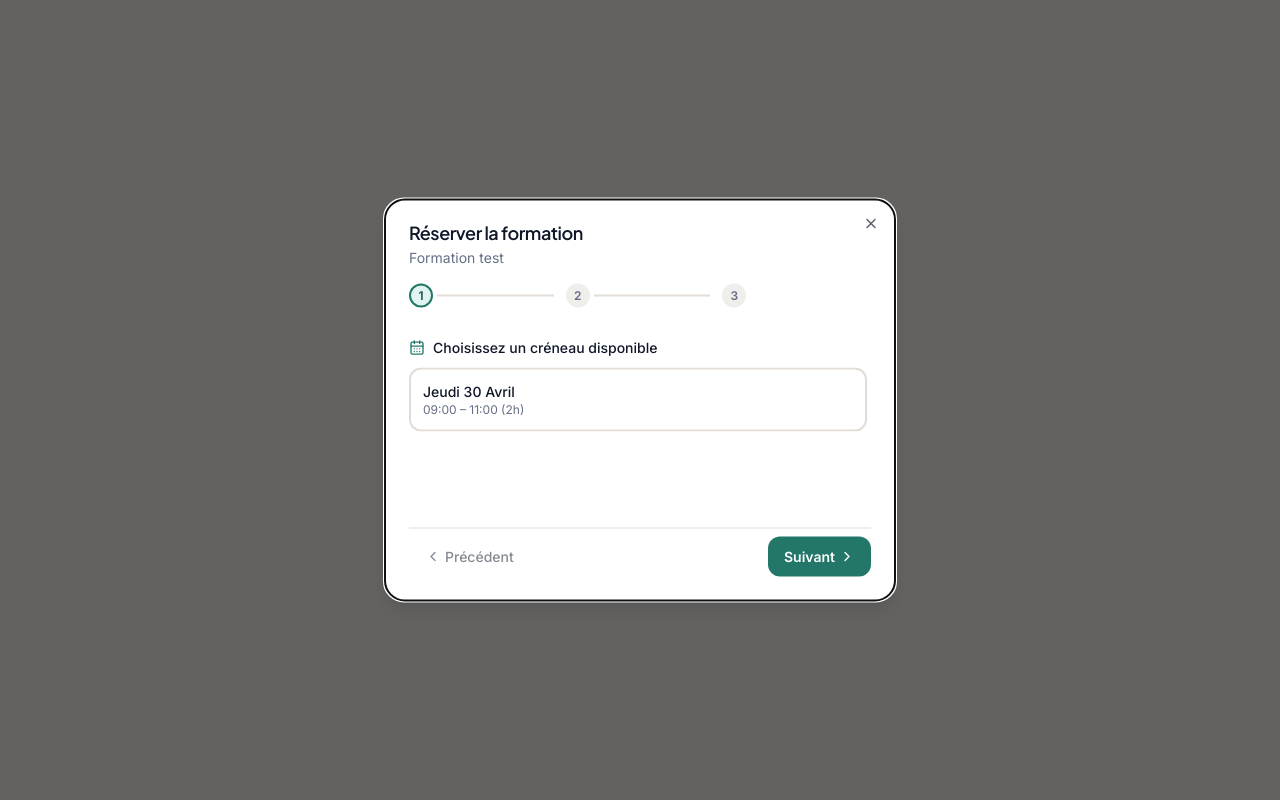
Test: BookServiceModal › applique la même validation de capacité pour une formation
The width and height of the screenshot is (1280, 800).
Click the button "jeudi 30 avril 09:00 – 11:00 (2h)" at (469, 391), box [409,368,867,432]
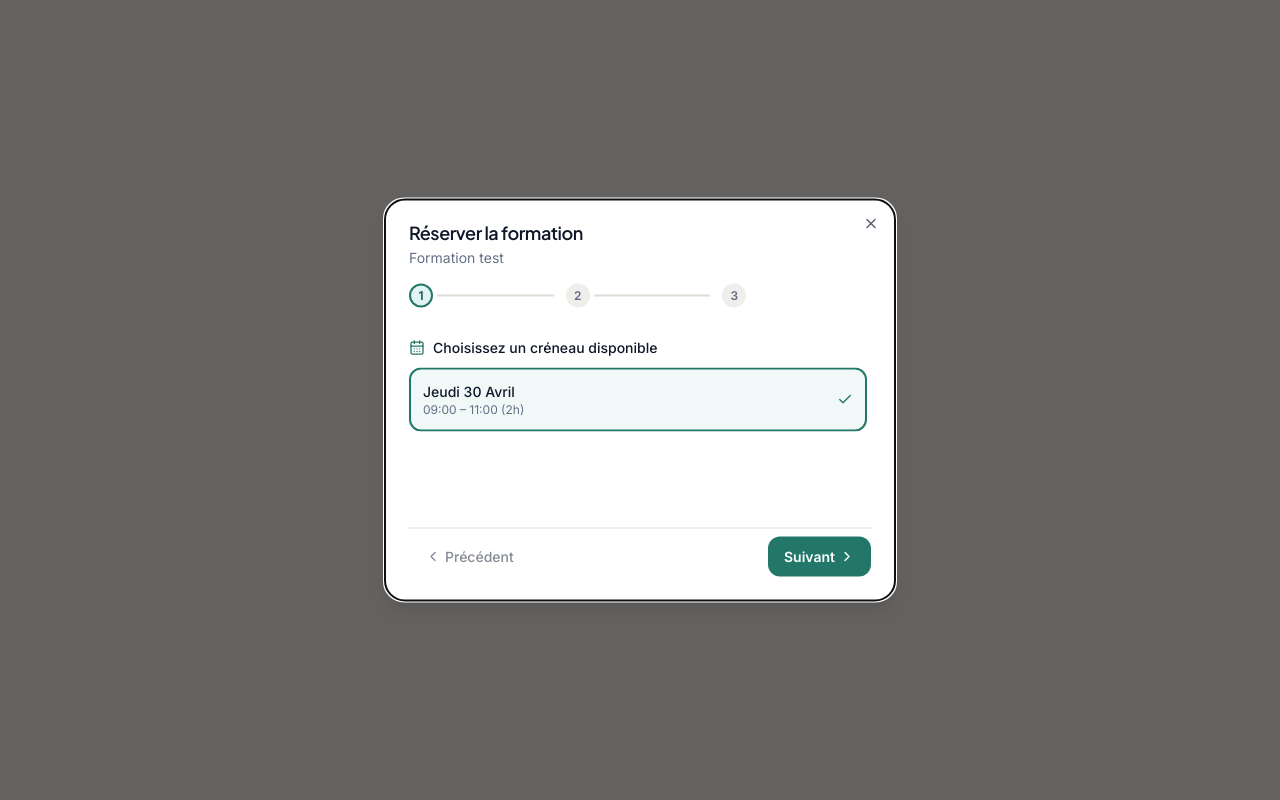
Click the button "Suivant" at (820, 556), box [768,536,871,576]
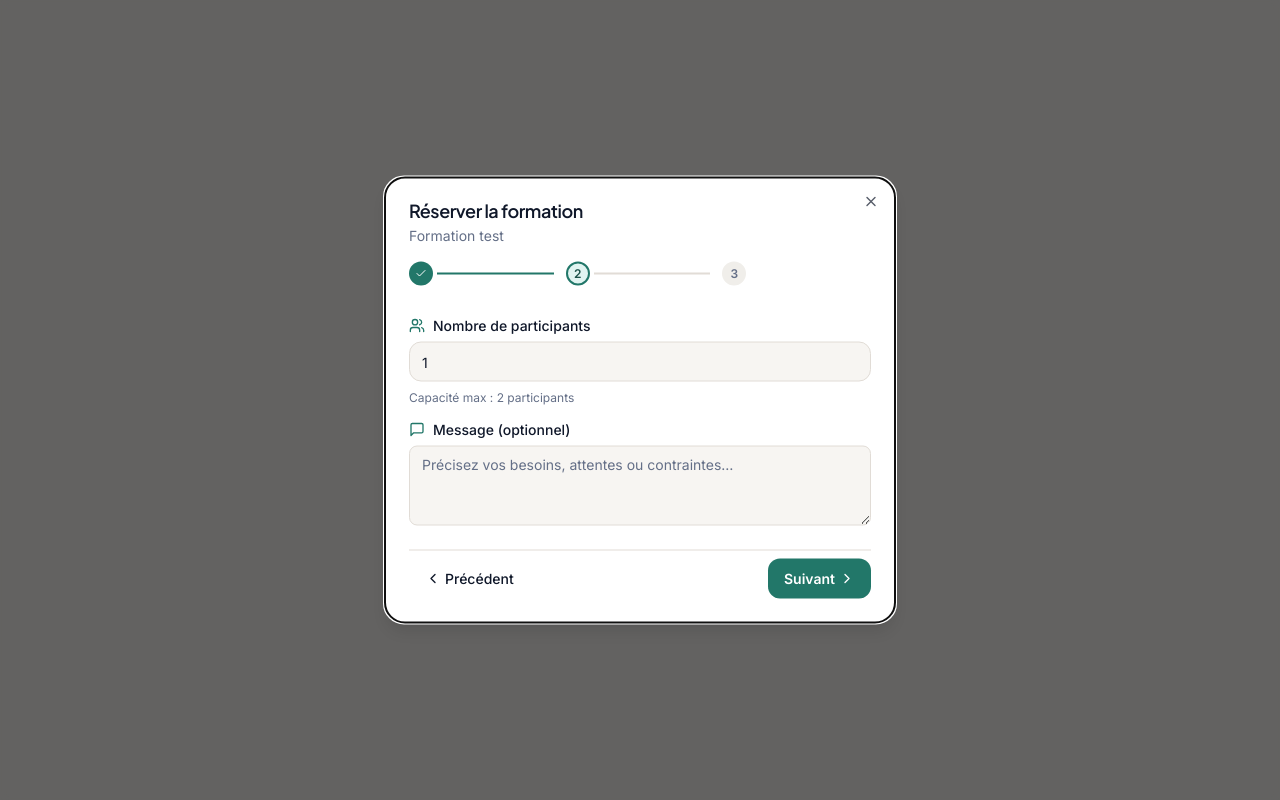
Replace the text in the number field labelled "Nombre de participants" with "3" at (640, 362), box [409,342,871,382]
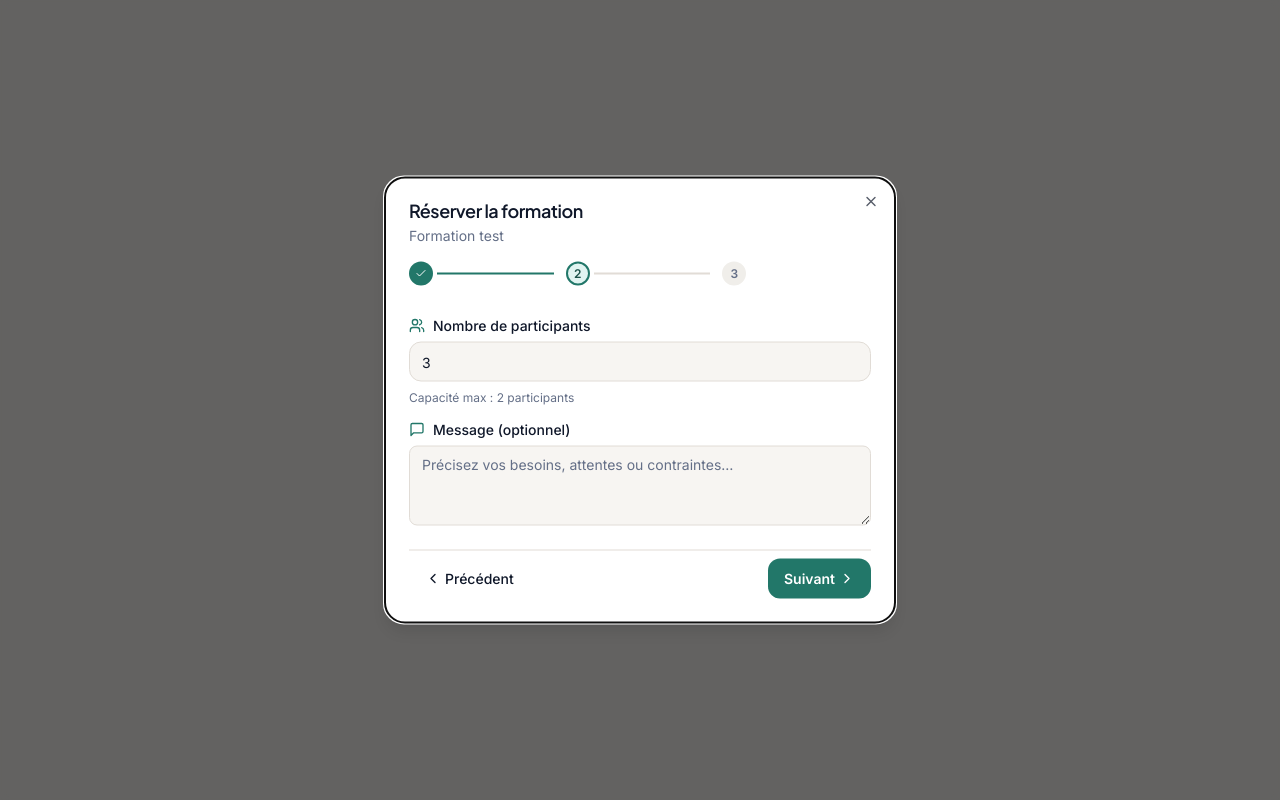
Click the button "Suivant" at (820, 578), box [768,558,871,598]
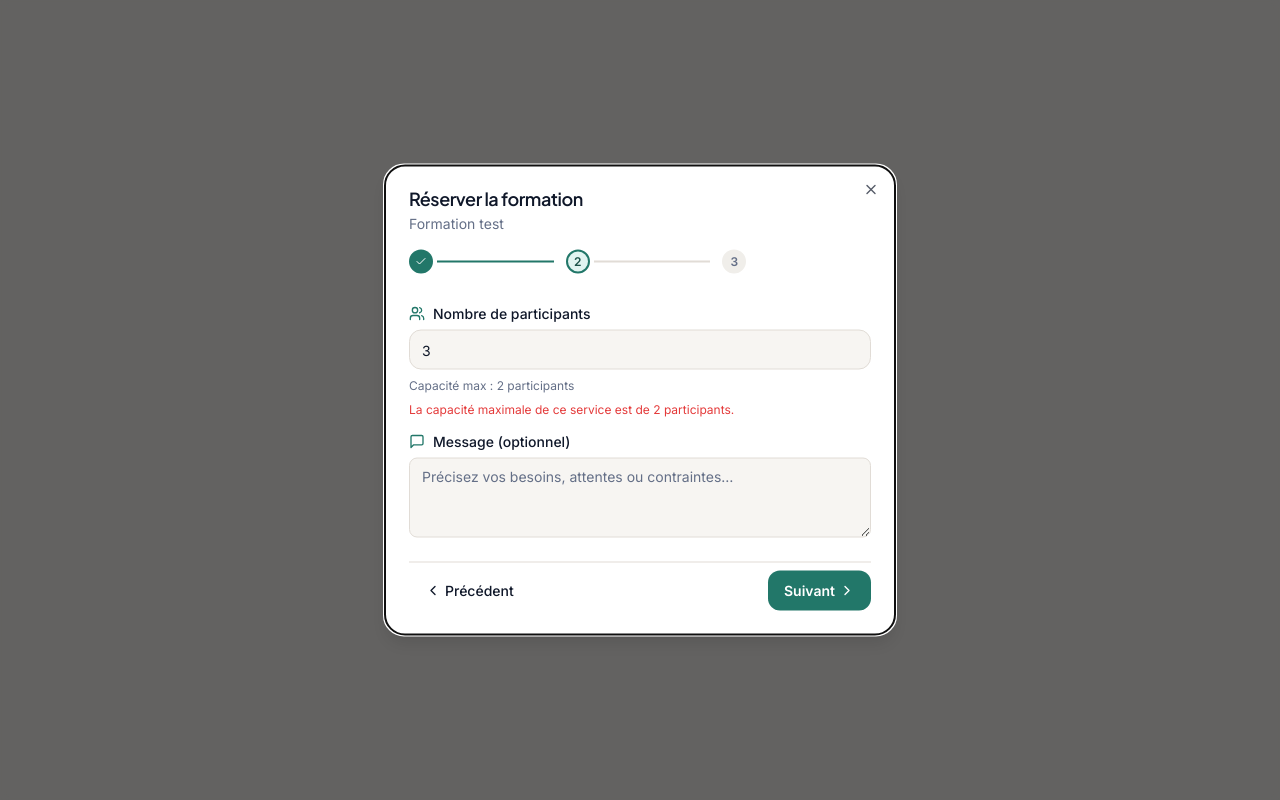
Expected: the text "La capacité maximale de ce service est de 2 participants." is shown, [409,402,734,416]
